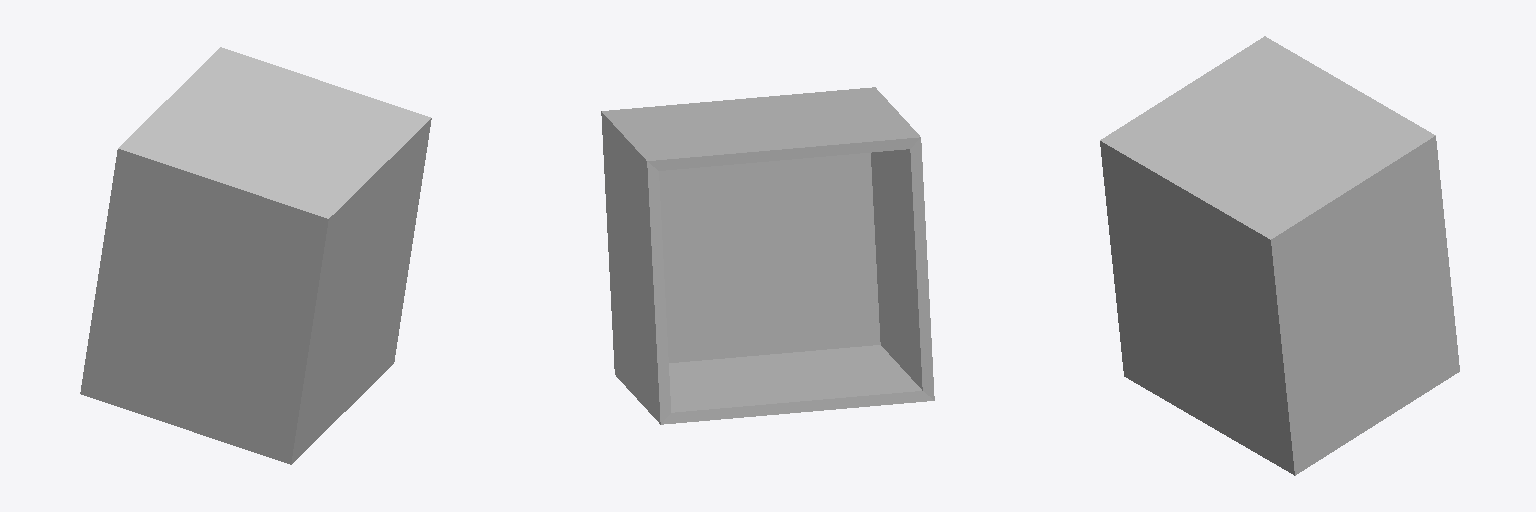
3 views of the same model, side by side, from view 1: azimuth 30°, elevation 25°; view 2: azimuth 150°, elevation 25°; view 3: azimuth 270°, elevation 25° (orthographic).
Parts seen in each view (by area): view 1: pasted__pasted__pasted__pCube3 pasted__pasted__group pasted__gro; view 2: pasted__pasted__pasted__pCube3 pasted__pasted__group pasted__gro; view 3: pasted__pasted__pasted__pCube3 pasted__pasted__group pasted__gro.
Part boxes in pixels (x1,y1,x2,y2): pasted__pasted__pasted__pCube3 pasted__pasted__group pasted__gro: (80, 47, 431, 464); pasted__pasted__pasted__pCube3 pasted__pasted__group pasted__gro: (601, 87, 934, 424); pasted__pasted__pasted__pCube3 pasted__pasted__group pasted__gro: (1100, 36, 1459, 475).
Bounding box in the file's own units: 12.25 × 10.17 × 11.16.